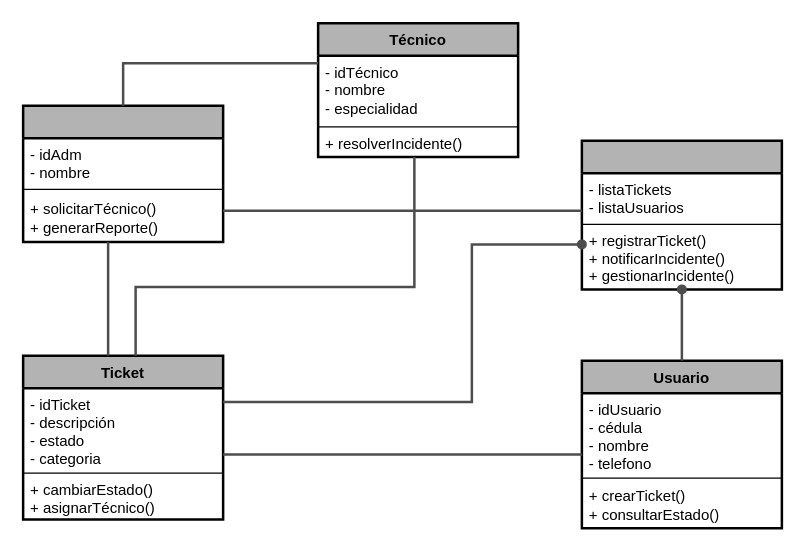
Image size: 804x550. Some labels were removed from this diagram. Here are the shapes that lost their labels. From the top down, the box of each, then its label:
(21, 104, 224, 242): Administrador
(580, 139, 782, 290): SistemaHelpDesk
